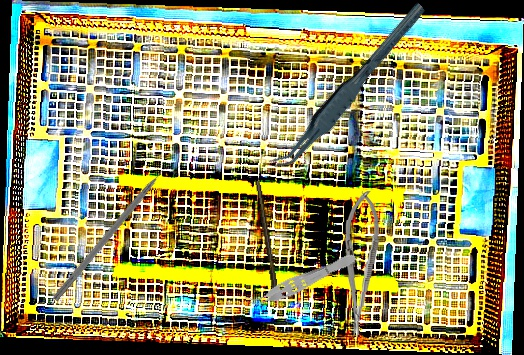Chopper: (51, 157, 183, 308)
Hook Surgical: (254, 180, 282, 310)
Needle Holder: (337, 189, 383, 338)
Tissue Forceps: (255, 1, 444, 176), (243, 247, 359, 315)
